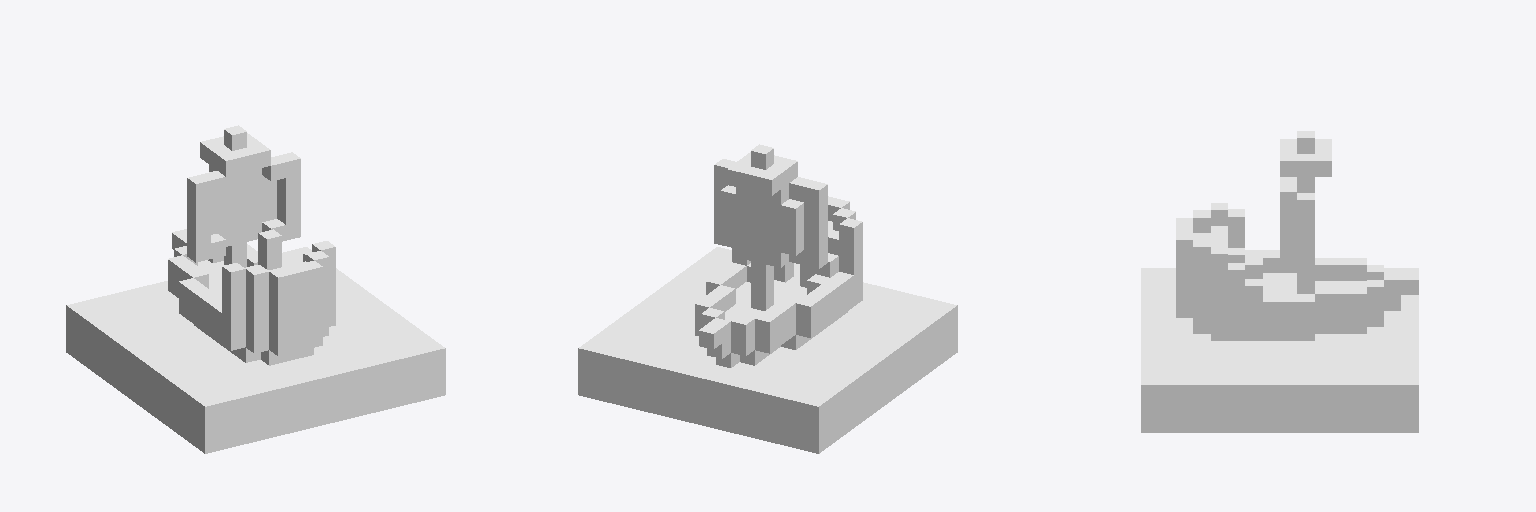
The model's file is boat.obj.
3 renders of one model, left to right at view 1: azimuth 30°, elevation 25°; view 2: azimuth 150°, elevation 25°; view 3: azimuth 270°, elevation 25°, orthographic.
Visible parts, largest first — view 1: boat; view 2: boat; view 3: boat.
Boxes of the visible parts, <box> form: boat: <box>66,125,445,453</box>; boat: <box>578,144,957,453</box>; boat: <box>1141,131,1418,432</box>.
Bounding box in the file's own units: 16 × 15 × 16.